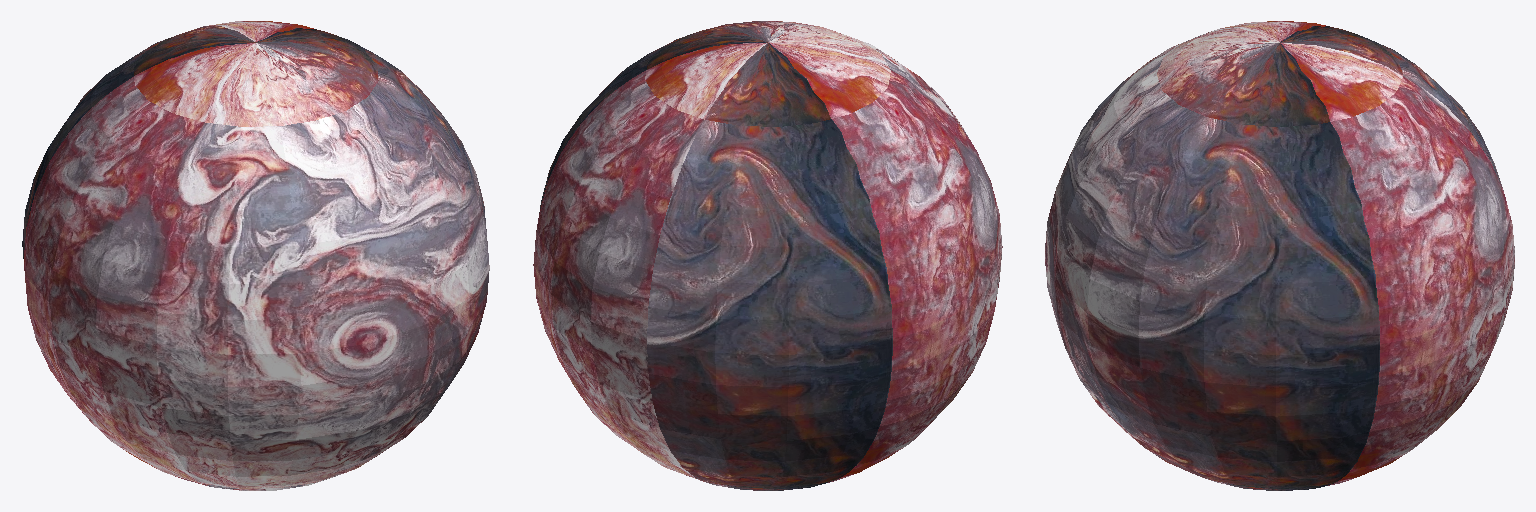
3 renders of one model, left to right at view 1: azimuth 30°, elevation 25°; view 2: azimuth 150°, elevation 25°; view 3: azimuth 270°, elevation 25°, orthographic.
Parts seen in each view (by area): view 1: pSphere1; view 2: pSphere1; view 3: pSphere1.
Boxes of the visible parts, x1,y1,x2,y2 form: pSphere1: [22, 21, 489, 490]; pSphere1: [533, 21, 1002, 490]; pSphere1: [1045, 21, 1514, 490].
Size of the model in its own units: 2 by 2 by 2.
Materials: 1 (1 with a texture image).